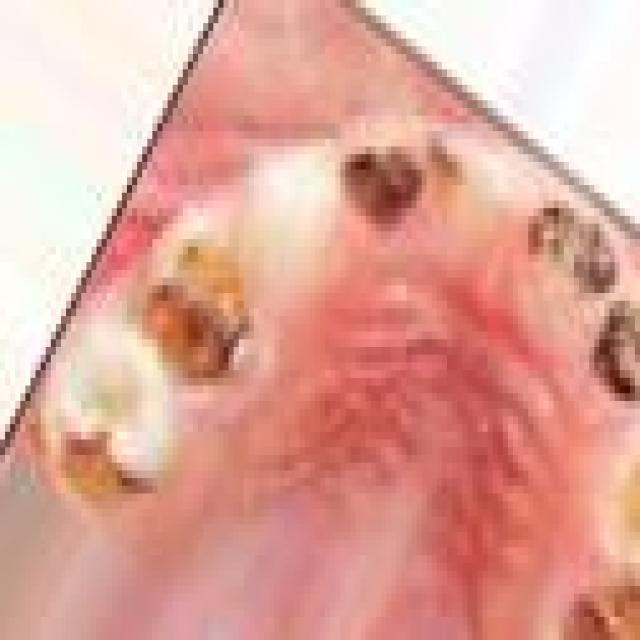caries: (131, 219, 271, 393), (52, 402, 170, 542), (328, 117, 426, 261), (520, 181, 623, 314), (569, 281, 640, 420), (554, 547, 635, 640), (424, 123, 488, 224)
